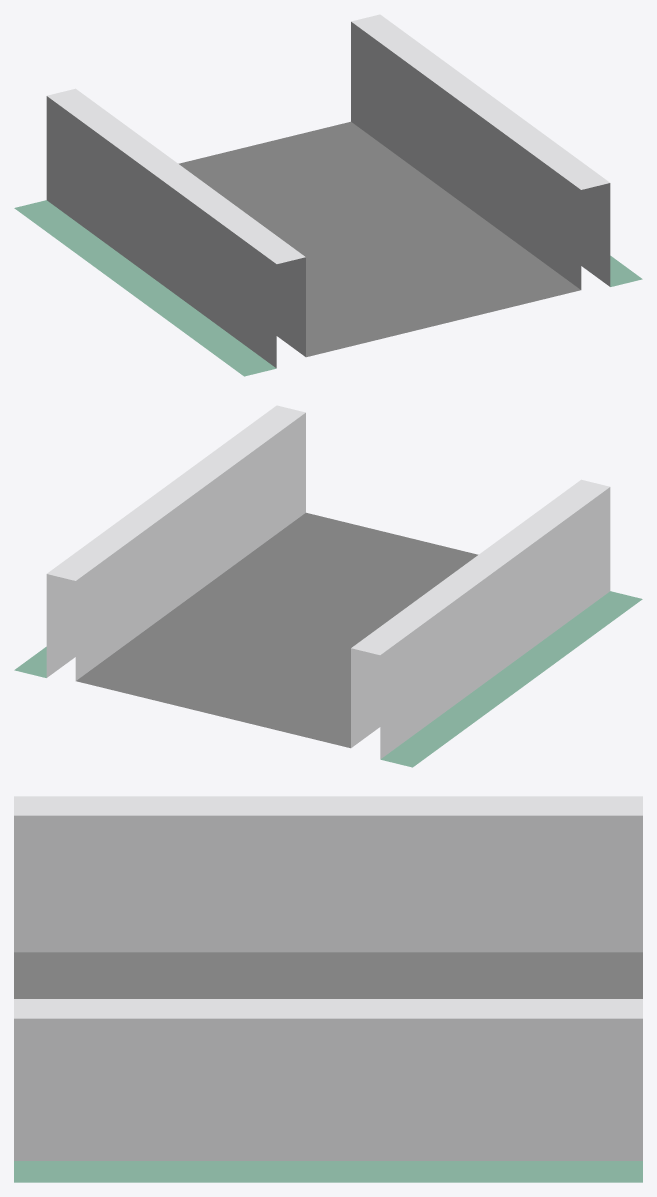
The model's file is roadStraightcopy.dae.
3 renders of one model, top to bottom at view 1: azimuth 30°, elevation 25°; view 2: azimuth 150°, elevation 25°; view 3: azimuth 270°, elevation 25°, orthographic. The views are drawn at different scales.
Parts seen in each view (by area): view 1: roadStraight; view 2: roadStraight; view 3: roadStraight.
Boxes of the visible parts, x1,y1,x2,y2 form: roadStraight: (14,14,642,376); roadStraight: (14,405,642,767); roadStraight: (14,796,642,1182).
Bounding box in the file's own units: 1 × 1 × 0.25.
